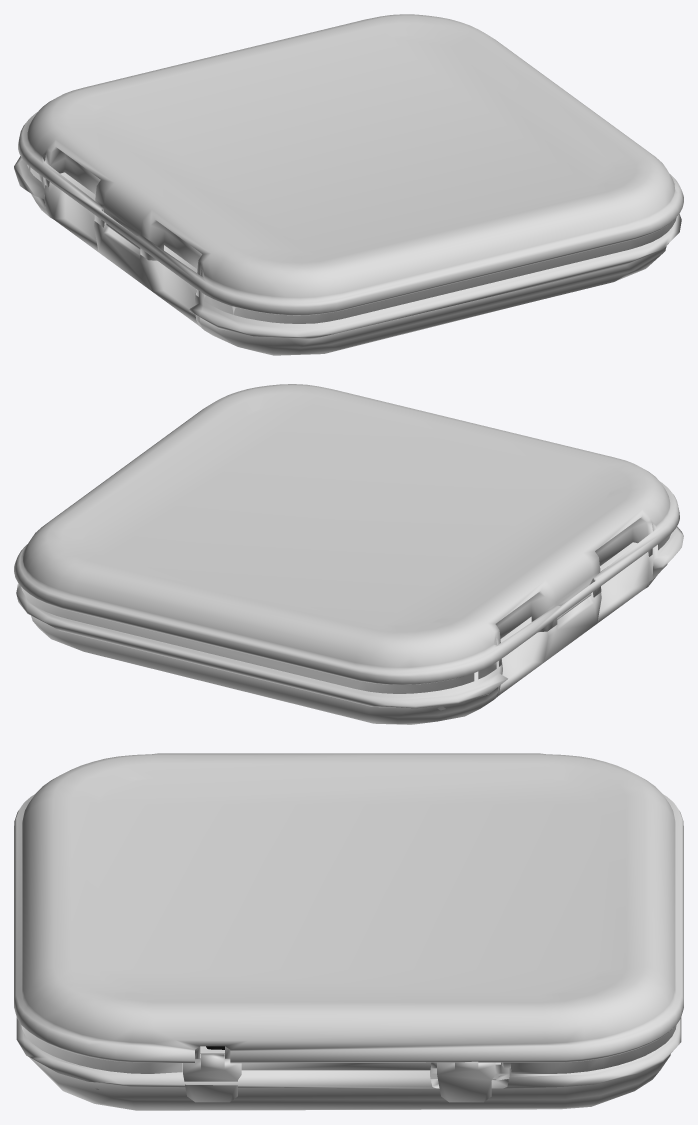
Rendered from katamari-nails.glb.
3 renders of one model, top to bottom at view 1: azimuth 30°, elevation 25°; view 2: azimuth 150°, elevation 25°; view 3: azimuth 270°, elevation 25°, orthographic. The views are drawn at different scales.
Visible parts, largest first — view 1: case; view 2: case; view 3: case.
Boxes of the visible parts, x1,y1,x2,y2 form: case: (14,14,683,355); case: (14,384,683,724); case: (14,753,683,1110).
Bounding box in the file's own units: 0.8439 × 0.1513 × 0.8443.
Materials: 2 (1 with a texture image).
